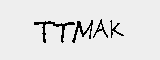А: (93, 16, 109, 42)
К: (108, 18, 125, 45)
М: (73, 19, 95, 44)
Т: (53, 20, 72, 45), (35, 19, 52, 46)
